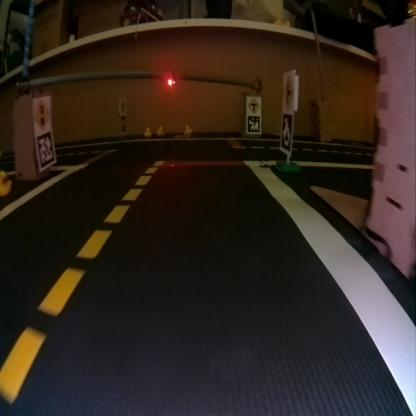Duckie: (0, 171, 11, 194), (183, 124, 191, 134), (156, 126, 164, 135), (142, 127, 148, 136)
Intersection sign: (283, 74, 292, 108), (247, 97, 259, 113)
QR code: (36, 132, 54, 166), (281, 112, 290, 152), (247, 115, 259, 132), (120, 114, 126, 131)
Signal sign: (34, 99, 49, 131)
